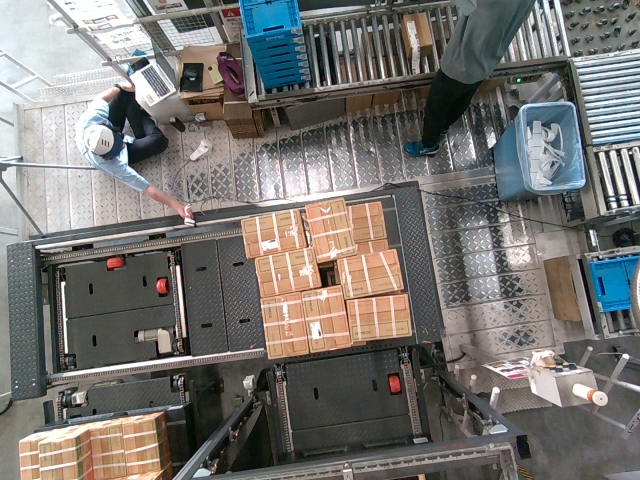box: (302, 285, 351, 351), (305, 198, 355, 262), (253, 249, 320, 293), (260, 295, 308, 356), (238, 212, 306, 254), (339, 250, 401, 296), (347, 297, 412, 339)
